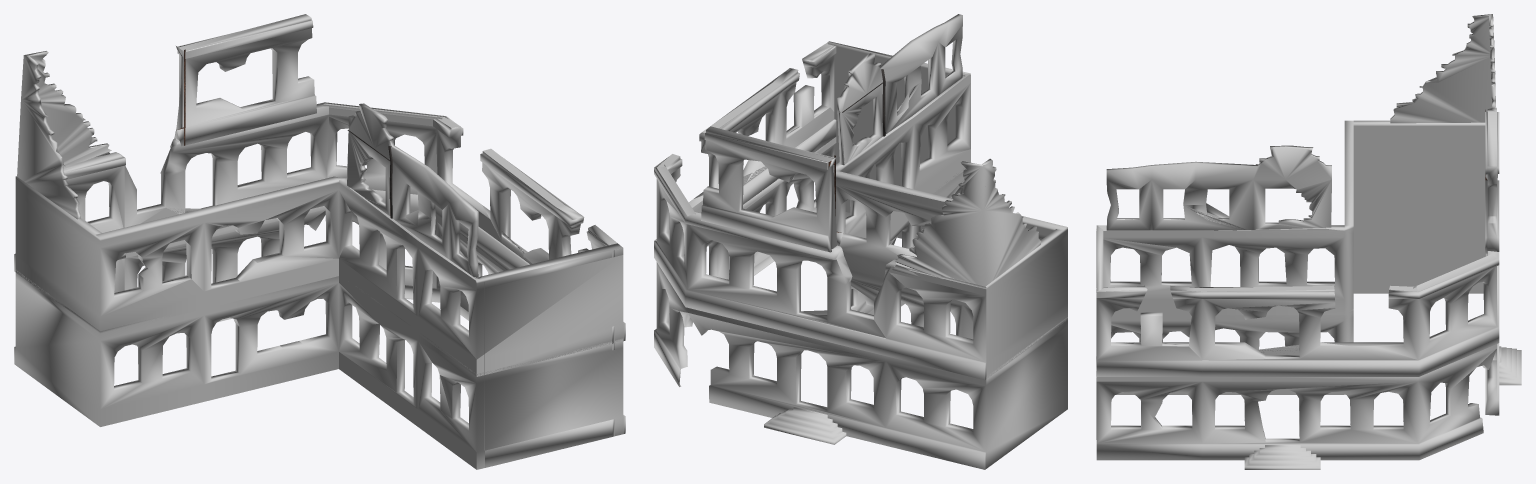
The model's file is angleHouse1_LOD2.fbx.
3 renders of one model, left to right at view 1: azimuth 30°, elevation 25°; view 2: azimuth 150°, elevation 25°; view 3: azimuth 270°, elevation 25°, orthographic. The views are drawn at different scales.
Parts seen in each view (by area): view 1: angleHouse1_LOD2; view 2: angleHouse1_LOD2; view 3: angleHouse1_LOD2.
Boxes of the visible parts, box(x1,y1,x2,y2) form: angleHouse1_LOD2: box(14, 14, 625, 469); angleHouse1_LOD2: box(654, 14, 1067, 469); angleHouse1_LOD2: box(1096, 14, 1521, 469).
Bounding box in the file's own units: 16.75 × 12.13 × 16.75.
